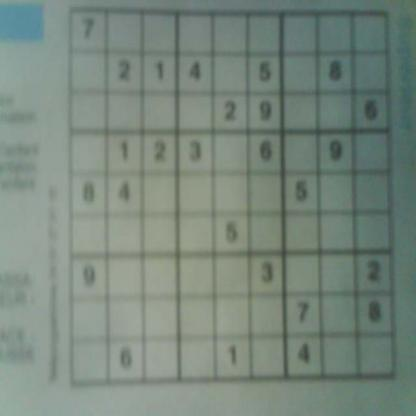sudoku: (66, 2, 399, 391)
